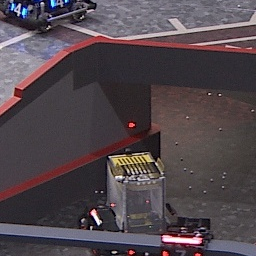Blue: (9, 2, 28, 17), (47, 1, 70, 7)
Red: (158, 244, 202, 256)
Robot: (79, 149, 179, 252), (1, 1, 94, 29), (158, 216, 211, 256)
